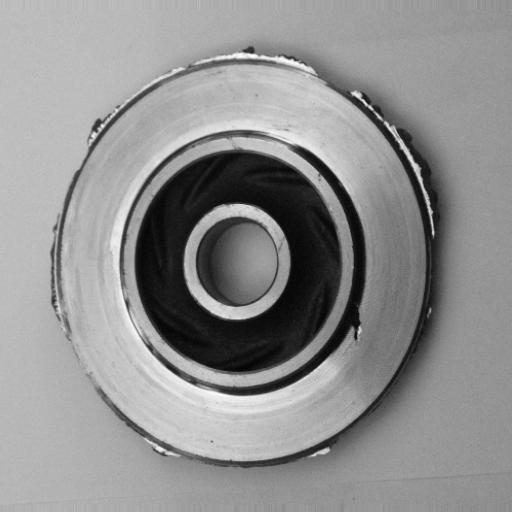casting_with_burr: (48, 43, 444, 469)
crack: (340, 296, 372, 350)
scratch: (113, 265, 163, 358)
